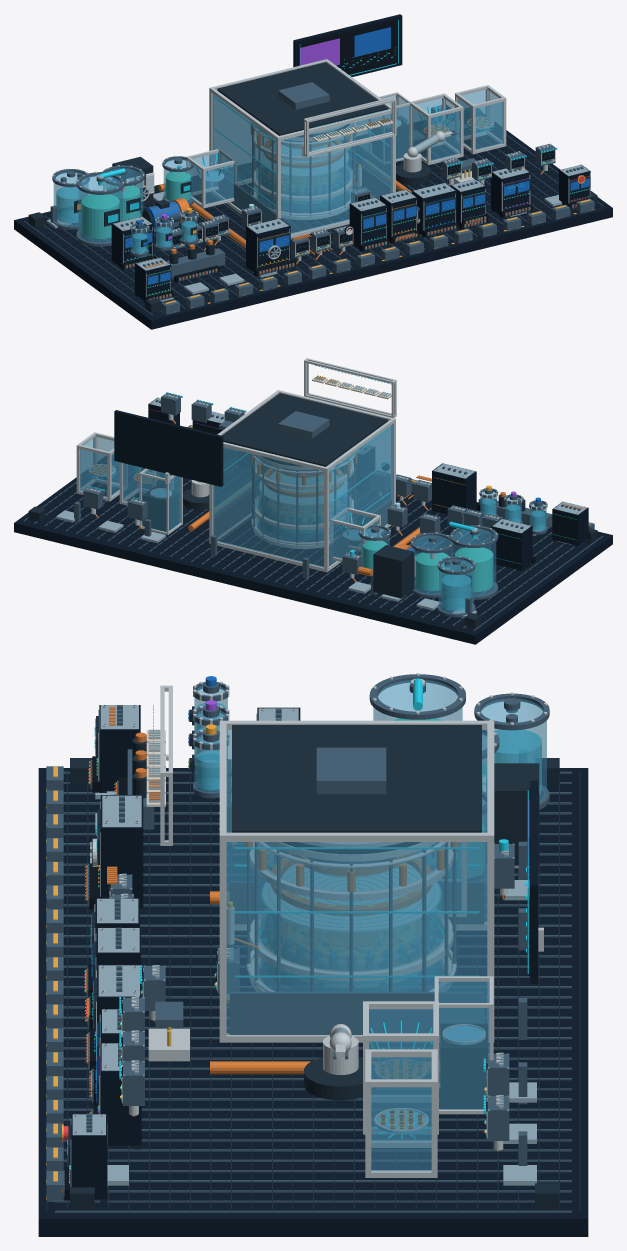
File: Level76_Complete_ArtKit_Showcase.fbx
The picture shows the model from 3 angles, top to bottom: view 1: azimuth 30°, elevation 25°; view 2: azimuth 150°, elevation 25°; view 3: azimuth 270°, elevation 25°; orthographic projection. The views are drawn at different scales.
Visible parts, largest first — view 1: Level76_Complete_ArtKit_Showcase, Level76_Complete_ArtKit_Showcase_Part_0585; view 2: Level76_Complete_ArtKit_Showcase, Level76_Complete_ArtKit_Showcase_Part_0585; view 3: Level76_Complete_ArtKit_Showcase, Level76_Complete_ArtKit_Showcase_Part_0585, Level76_Complete_ArtKit_Showcase_Part_1199, Level76_Complete_ArtKit_Showcase_Part_2682.
Boxes of the visible parts, x1,y1,x2,y2 form: Level76_Complete_ArtKit_Showcase: (14, 14, 612, 329); Level76_Complete_ArtKit_Showcase_Part_0585: (260, 143, 348, 175); Level76_Complete_ArtKit_Showcase: (14, 358, 612, 644); Level76_Complete_ArtKit_Showcase_Part_0585: (259, 472, 347, 504); Level76_Complete_ArtKit_Showcase: (38, 673, 588, 1236); Level76_Complete_ArtKit_Showcase_Part_0585: (262, 863, 440, 931); Level76_Complete_ArtKit_Showcase_Part_1199: (323, 1036, 358, 1074); Level76_Complete_ArtKit_Showcase_Part_2682: (155, 1001, 183, 1027).
Bounding box in the file's own units: 1960 × 572 × 1010.
